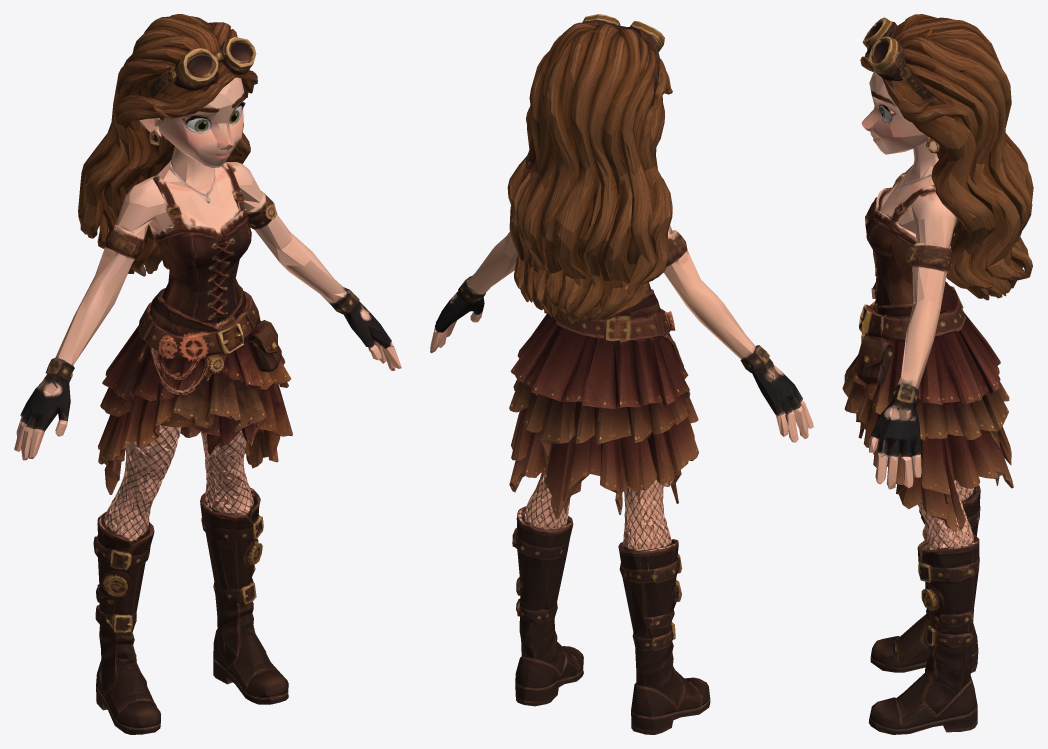
File: abi_steampunk.fbx
3 renders of one model, left to right at view 1: azimuth 30°, elevation 25°; view 2: azimuth 150°, elevation 25°; view 3: azimuth 270°, elevation 25°, orthographic.
Parts seen in each view (by area): view 1: abi_steampunk; view 2: abi_steampunk; view 3: abi_steampunk.
Boxes of the visible parts, x1=… form: abi_steampunk: x1=14, y1=14, x2=401, y2=734; abi_steampunk: x1=430, y1=14, x2=813, y2=734; abi_steampunk: x1=842, y1=14, x2=1033, y2=734.
Size of the model in its own units: 0.9558 by 1.65 by 0.4246.
Materials: 1 (1 with a texture image).
